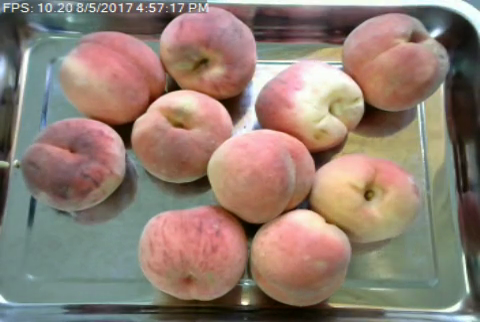Peach: (339, 10, 447, 113), (253, 56, 361, 155), (138, 206, 248, 301), (248, 207, 352, 306), (205, 128, 314, 222), (311, 150, 420, 243), (21, 118, 129, 211), (61, 29, 164, 124), (135, 89, 235, 184), (159, 6, 256, 99)
